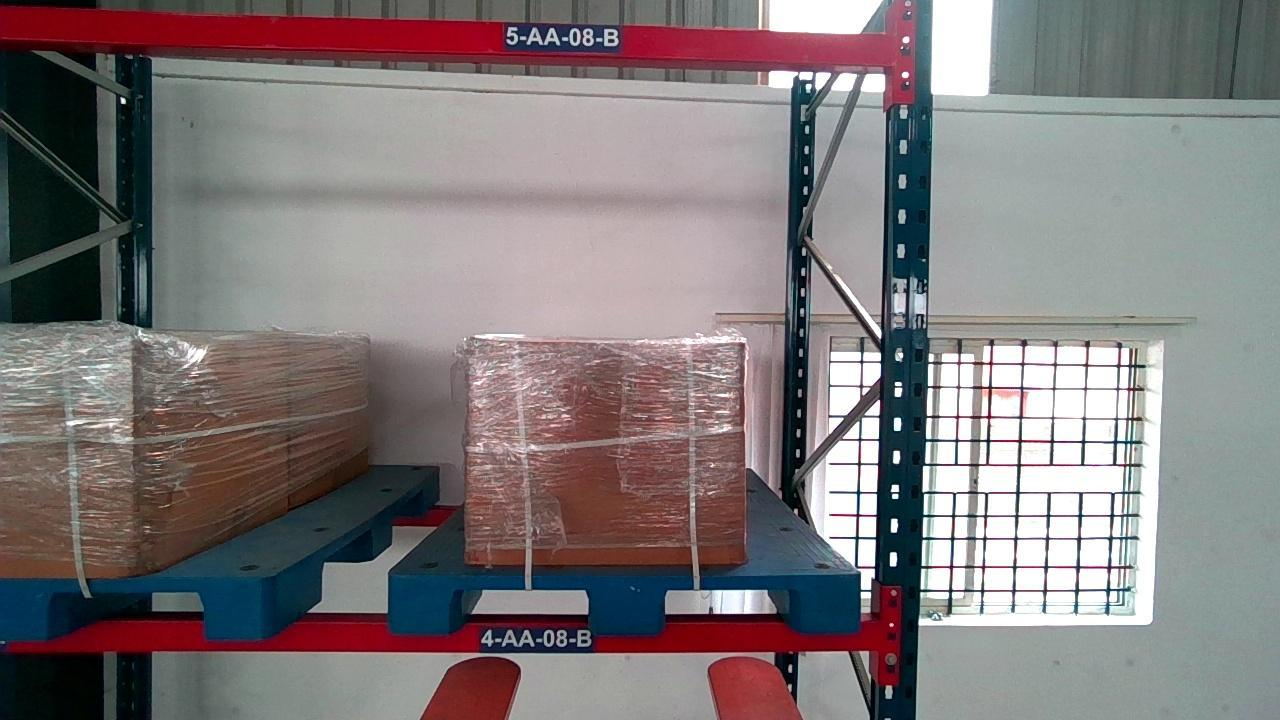h_rack: (0, 6, 892, 64), (0, 620, 882, 651)
small_pallet: (391, 571, 862, 634), (0, 576, 263, 642)
